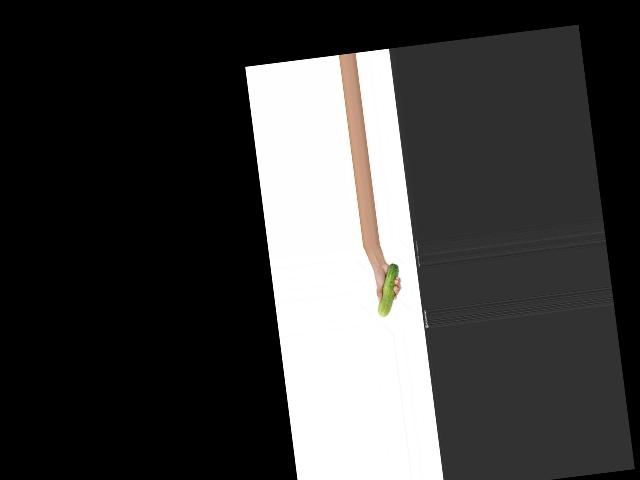cucumber: (372, 262, 404, 316)
